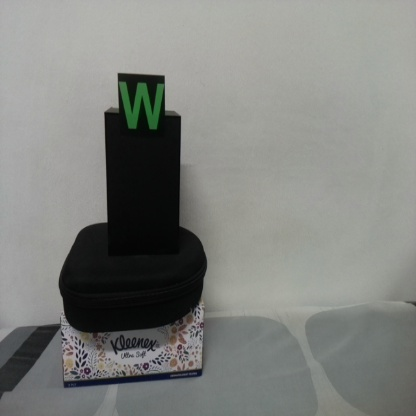id_12: (117, 74, 166, 145)
